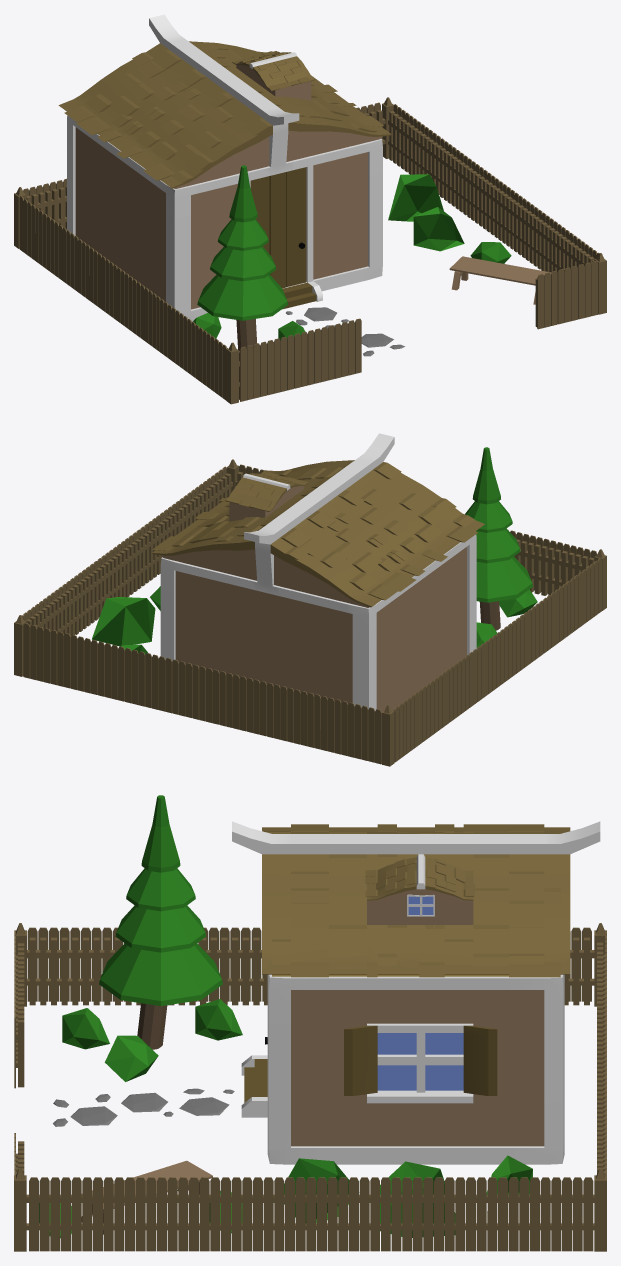
File: 2lvl_brown.fbx
3 views of the same model, one above another, from view 1: azimuth 30°, elevation 25°; view 2: azimuth 150°, elevation 25°; view 3: azimuth 270°, elevation 25° (orthographic). The views are drawn at different scales.
Visible parts, largest first — view 1: lvl_brown; view 2: lvl_brown; view 3: lvl_brown.
Boxes of the visible parts, <box> form: lvl_brown: <box>14,14,606,404</box>; lvl_brown: <box>14,433,606,766</box>; lvl_brown: <box>14,795,606,1251</box>.
Bounding box in the file's own units: 95.66 × 47.84 × 95.74.
